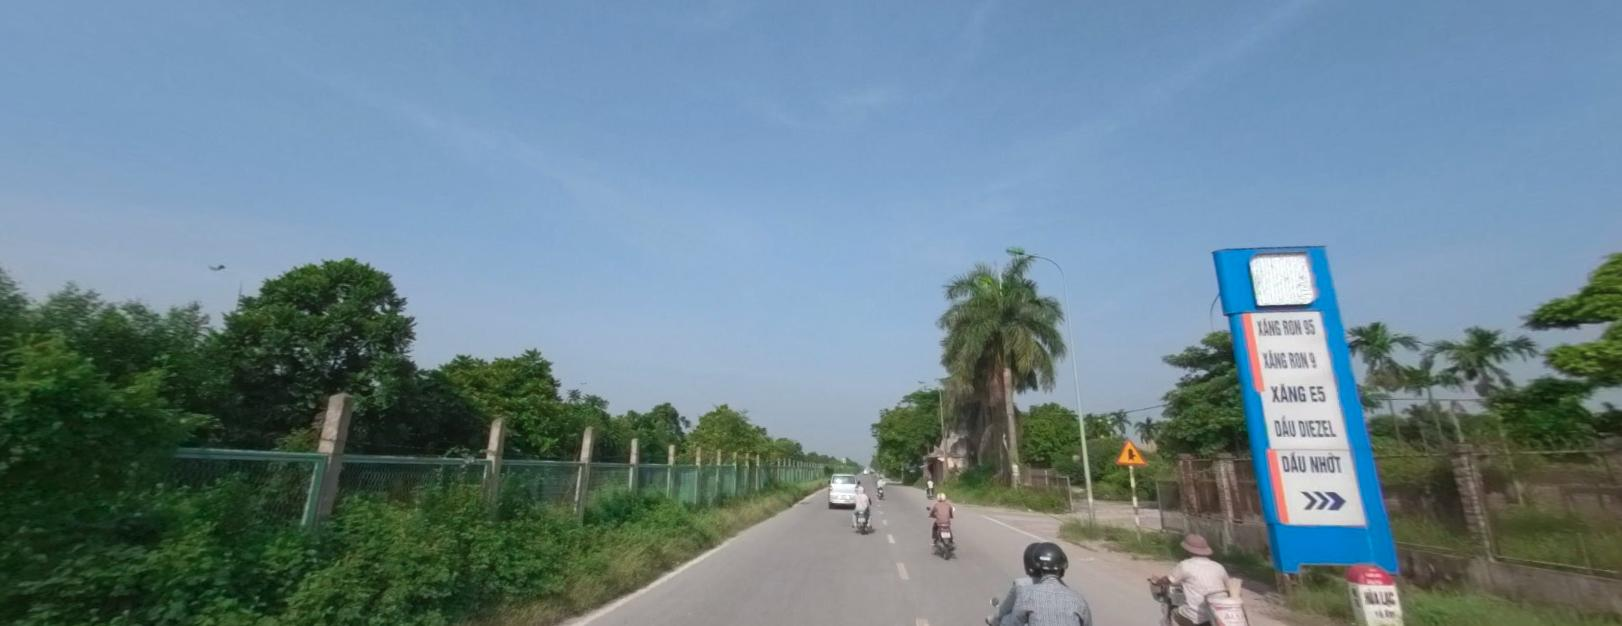Nguy hiem: (1115, 437, 1145, 464)
